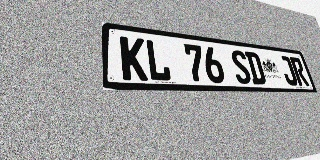6: (201, 46, 226, 83)
7: (182, 44, 208, 83)
D: (244, 51, 267, 85)
J: (278, 55, 299, 86)
K: (120, 36, 148, 81)
L: (145, 39, 172, 82)
R: (289, 57, 310, 86)
S: (229, 49, 253, 84)
